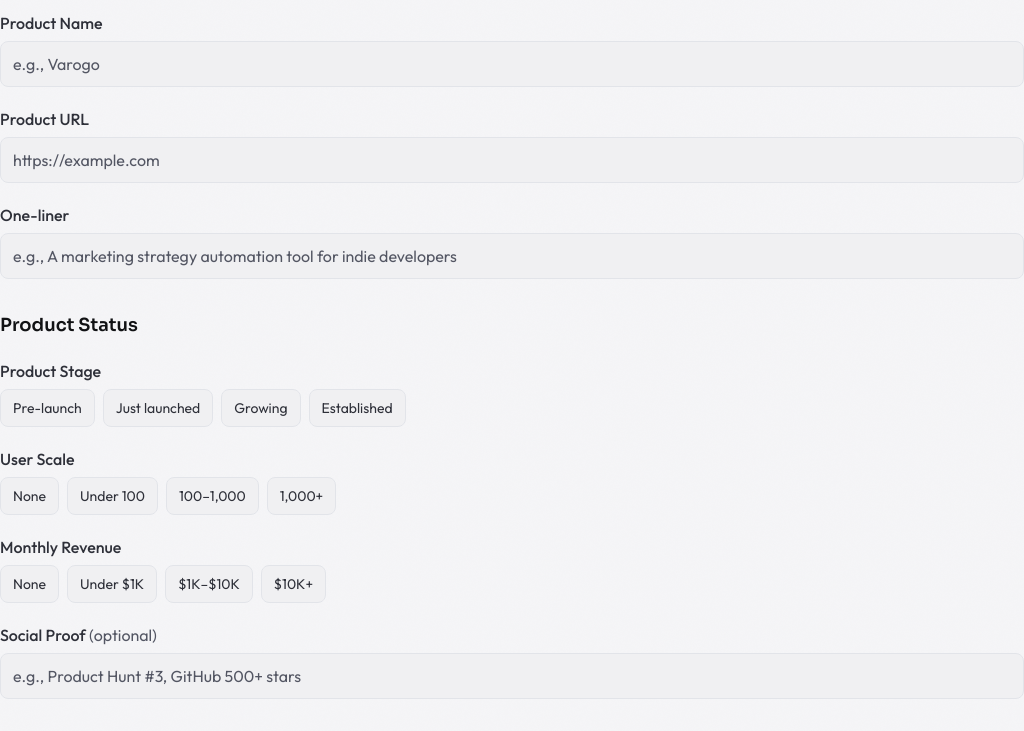
Scenario: ProductForm › validation › shows url validation error when url format is invalid
The width and height of the screenshot is (1024, 731).
Type "My Product" into the field labelled "Product Name" at (512, 64), box [0,41,1023,87]
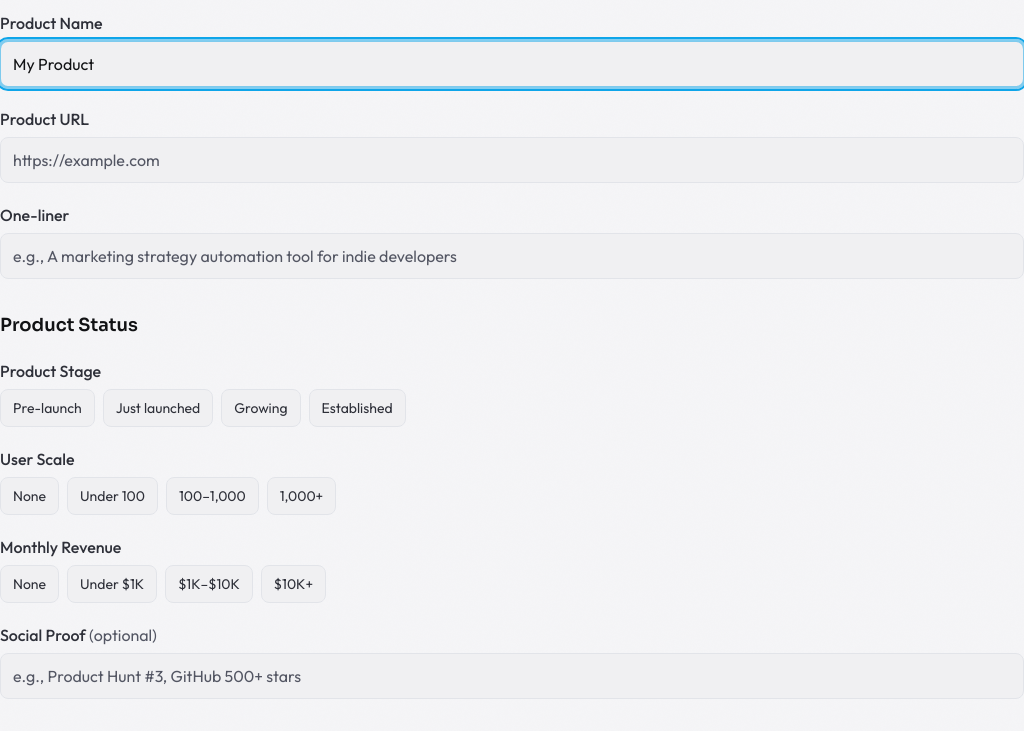
Type "not-a-url" into the field labelled "Product URL" at (512, 160), box [0,137,1023,183]
(page scrolled)
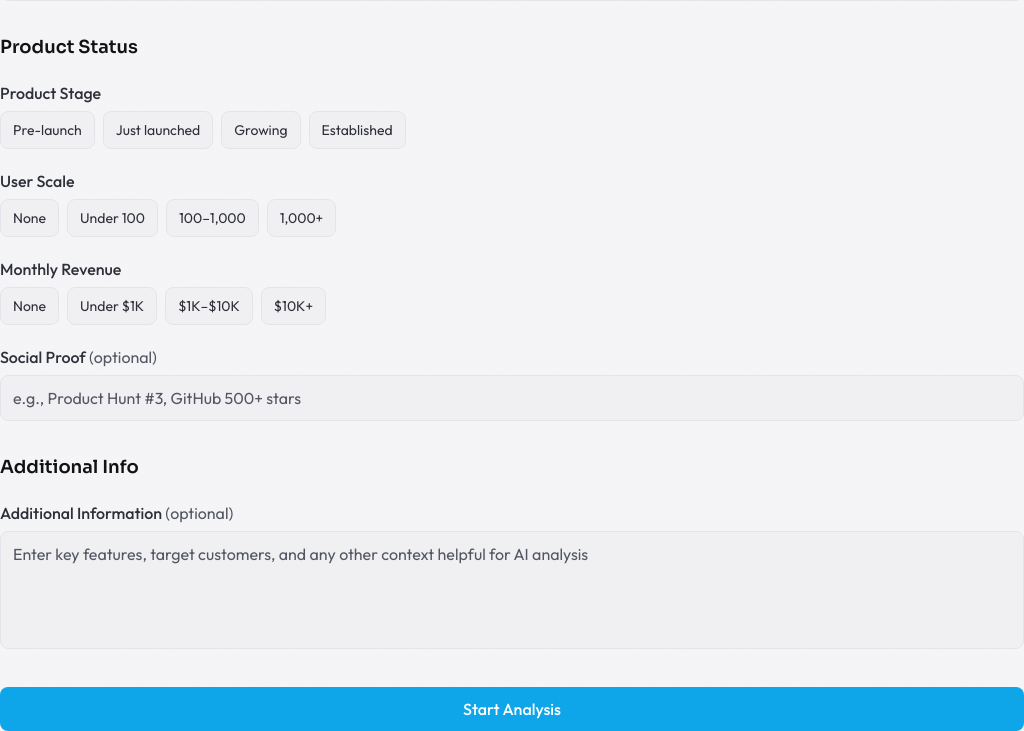
Click the button "Start Analysis" at (512, 709), box [0,687,1023,730]
(page scrolled)
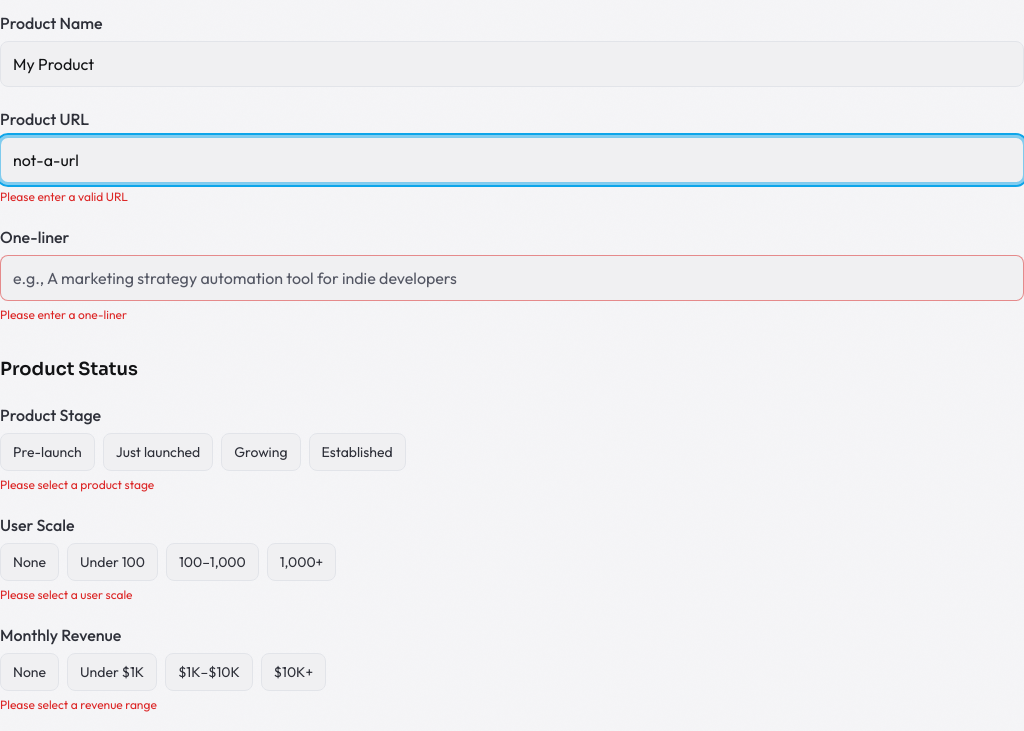
Check: the text "Please enter a valid URL" is shown, box [0,189,128,204]
